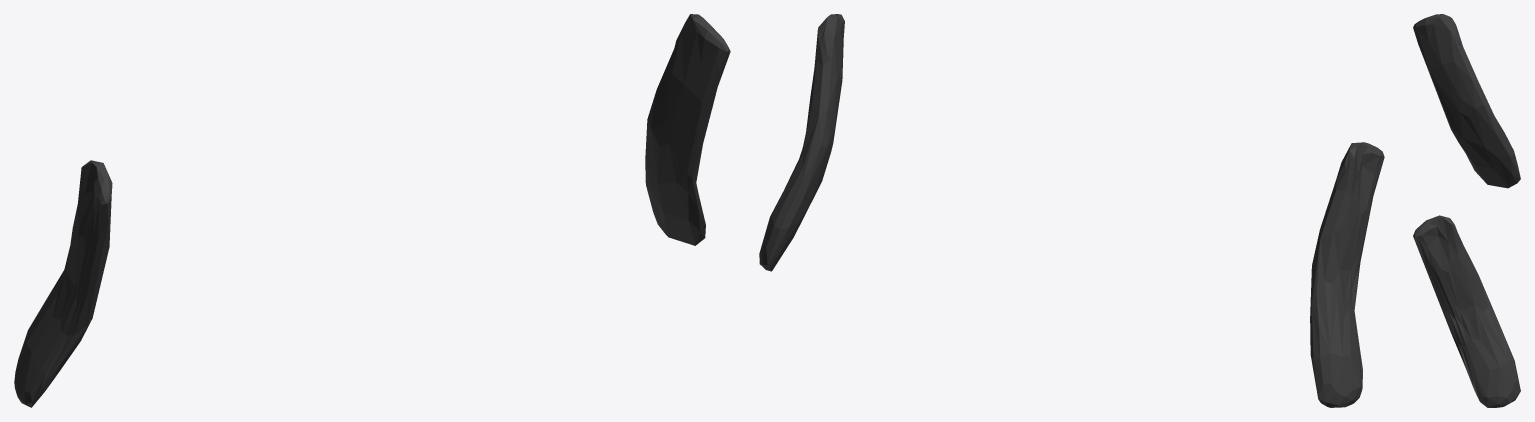
Rendered from lig_medial_collateral_stifle.glb.
3 views of the same model, side by side, from view 1: azimuth 30°, elevation 25°; view 2: azimuth 150°, elevation 25°; view 3: azimuth 270°, elevation 25° (orthographic). The views are drawn at different scales.
Visible parts, largest first — view 1: lig_medial_collateral_stifle; view 2: lig_medial_collateral_stifle; view 3: lig_medial_collateral_stifle.
Part boxes in pixels (x1,y1,x2,y2): lig_medial_collateral_stifle: [14, 14, 730, 407]; lig_medial_collateral_stifle: [759, 14, 1384, 407]; lig_medial_collateral_stifle: [1413, 14, 1520, 407].
Bounding box in the file's own units: 0.00423 × 0.00157 × 0.000846.
Materials: 1 (1 with a texture image).
